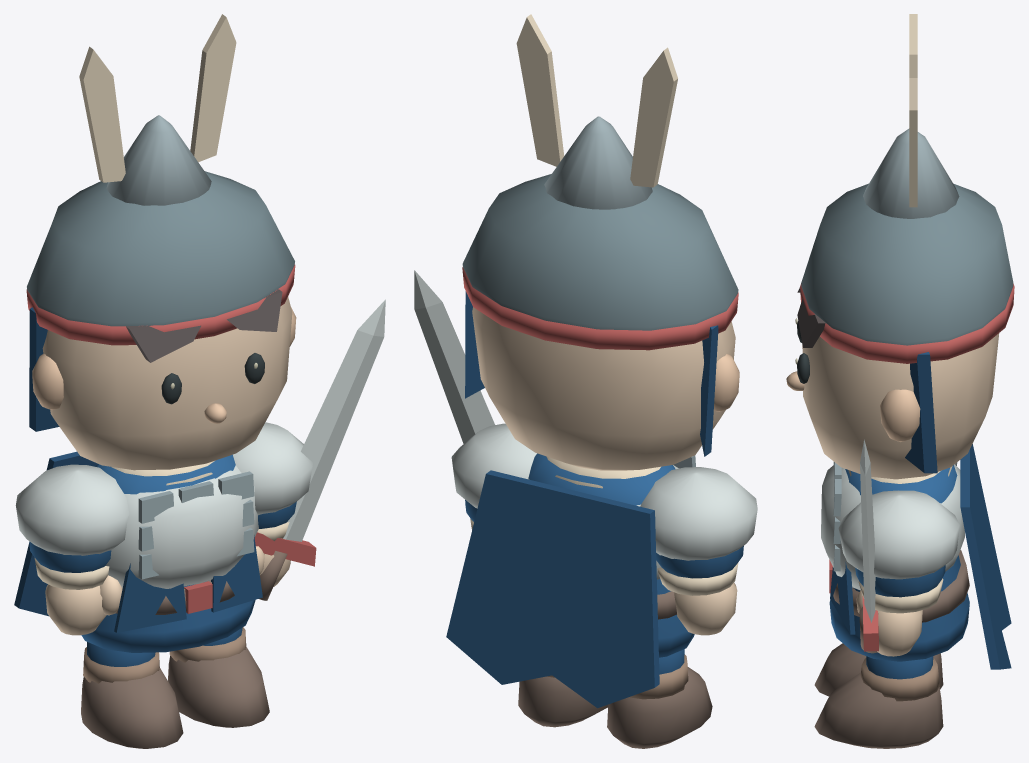
The model's file is knight.glb.
The picture shows the model from 3 angles, left to right: view 1: azimuth 30°, elevation 25°; view 2: azimuth 150°, elevation 25°; view 3: azimuth 270°, elevation 25°; orthographic projection. The views are drawn at different scales.
Parts seen in each view (by area): view 1: Regional helmet, Soft cheek head, Rounded breastplate, Big shoulder armour, Short folded tunic, Shaped bevel sword, Round leather boot, Round leather boot.001, Goguryeo pointed crown, Big shoulder armour.001, Feather plume.001, Feather plume (+21 smaller); view 2: Short scalloped cape, Regional helmet, Soft cheek head, Big shoulder armour, Goguryeo pointed crown, Helmet brow band, Round leather boot, Shaped bevel sword, Feather plume.001, Feather plume, Short folded tunic, Big shoulder armour.001 (+9 smaller); view 3: Regional helmet, Soft cheek head, Big shoulder armour.001, Round leather boot.001, Short scalloped cape, Goguryeo pointed crown, Short folded tunic, Helmet brow band, Rounded breastplate, Lamellar neck flap.001, Shaped bevel sword, Little mitten.001 (+12 smaller).
Part boxes in pixels (bbox=[...]): Regional helmet: bbox=[27, 171, 294, 326]; Soft cheek head: bbox=[42, 296, 292, 470]; Rounded breastplate: bbox=[105, 465, 258, 588]; Big shoulder armour: bbox=[15, 464, 129, 555]; Short folded tunic: bbox=[81, 454, 255, 652]; Shaped bevel sword: bbox=[283, 299, 385, 541]; Round leather boot: bbox=[81, 667, 183, 748]; Round leather boot.001: bbox=[168, 646, 269, 727]; Goguryeo pointed crown: bbox=[106, 115, 211, 205]; Big shoulder armour.001: bbox=[233, 422, 312, 515]; Feather plume.001: bbox=[190, 14, 236, 162]; Feather plume: bbox=[79, 46, 125, 182]; Short scalloped cape: bbox=[446, 470, 659, 708]; Regional helmet: bbox=[462, 174, 738, 330]; Soft cheek head: bbox=[472, 307, 735, 470]; Big shoulder armour: bbox=[640, 467, 757, 560]; Goguryeo pointed crown: bbox=[544, 116, 652, 209]; Helmet brow band: bbox=[462, 267, 738, 350]; Round leather boot: bbox=[607, 667, 712, 748]; Shaped bevel sword: bbox=[414, 270, 494, 443]; Feather plume.001: bbox=[516, 14, 564, 166]; Feather plume: bbox=[630, 47, 677, 187]; Short folded tunic: bbox=[528, 453, 694, 657]; Big shoulder armour.001: bbox=[451, 423, 536, 508]; Regional helmet: bbox=[801, 183, 1013, 345]; Soft cheek head: bbox=[802, 333, 999, 479]; Big shoulder armour.001: bbox=[838, 490, 959, 579]; Round leather boot.001: bbox=[814, 672, 943, 748]; Short scalloped cape: bbox=[960, 444, 1011, 669]; Goguryeo pointed crown: bbox=[863, 128, 959, 218]; Short folded tunic: bbox=[829, 465, 969, 661]; Helmet brow band: bbox=[800, 283, 1014, 363]; Rounded breastplate: bbox=[821, 464, 964, 590]; Lamellar neck flap.001: bbox=[905, 352, 937, 473]; Shaped bevel sword: bbox=[860, 439, 875, 622]; Little mitten.001: bbox=[877, 610, 922, 656].
Bounding box in the file's own units: 1.04 × 1.95 × 0.602.
